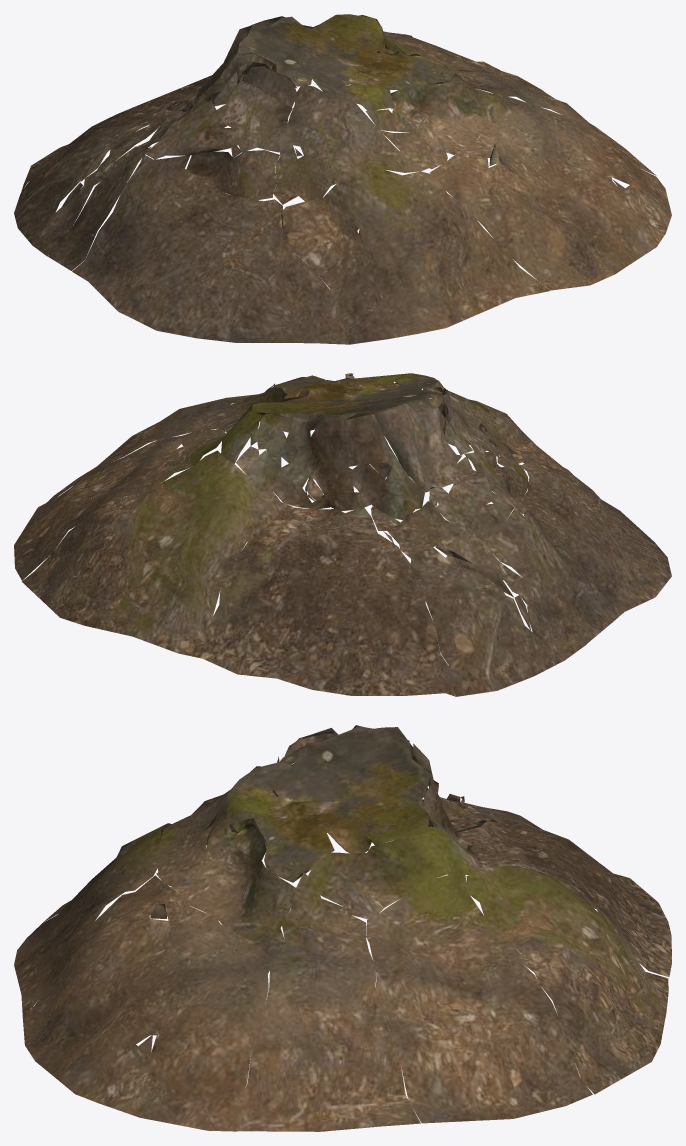
Rendered from tree_stump_02.glb.
The picture shows the model from 3 angles, top to bottom: view 1: azimuth 30°, elevation 25°; view 2: azimuth 150°, elevation 25°; view 3: azimuth 270°, elevation 25°; orthographic projection. The views are drawn at different scales.
Parts seen in each view (by area): view 1: tree_stump_02; view 2: tree_stump_02; view 3: tree_stump_02.
Boxes of the visible parts, box(x1,y1,x2,y2) form: tree_stump_02: box(14, 14, 671, 344); tree_stump_02: box(14, 373, 671, 696); tree_stump_02: box(14, 725, 671, 1131).
Bounding box in the file's own units: 1.76 × 0.6 × 1.62.
Materials: 1 (1 with a texture image).
